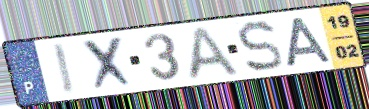3: (142, 32, 182, 84)
A: (185, 24, 243, 83), (285, 15, 336, 70)
I: (49, 40, 78, 97)
S: (234, 18, 286, 75)
X: (79, 33, 138, 94)
